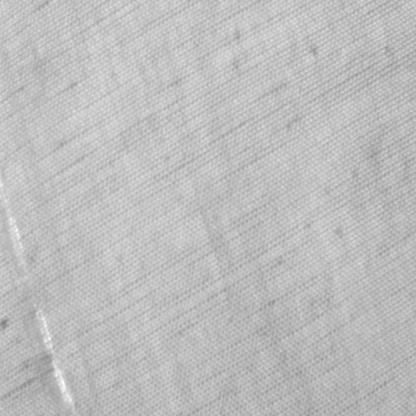thread error: (0, 166, 83, 413)
